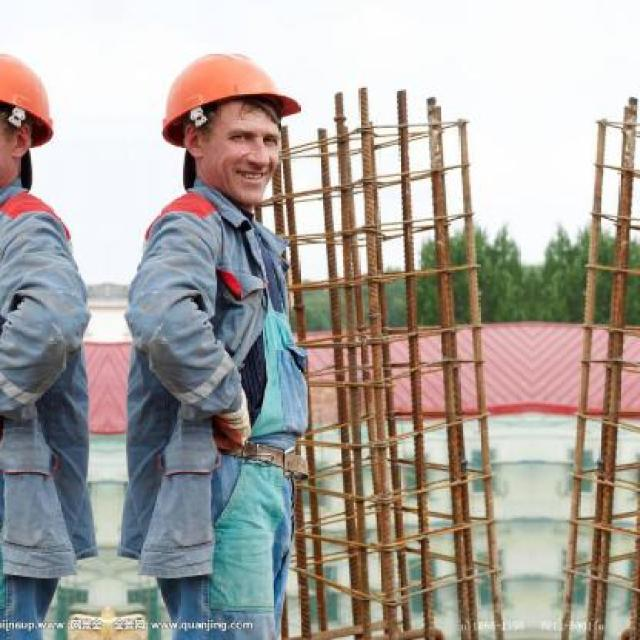helmet: (145, 31, 310, 210), (0, 31, 68, 211)
